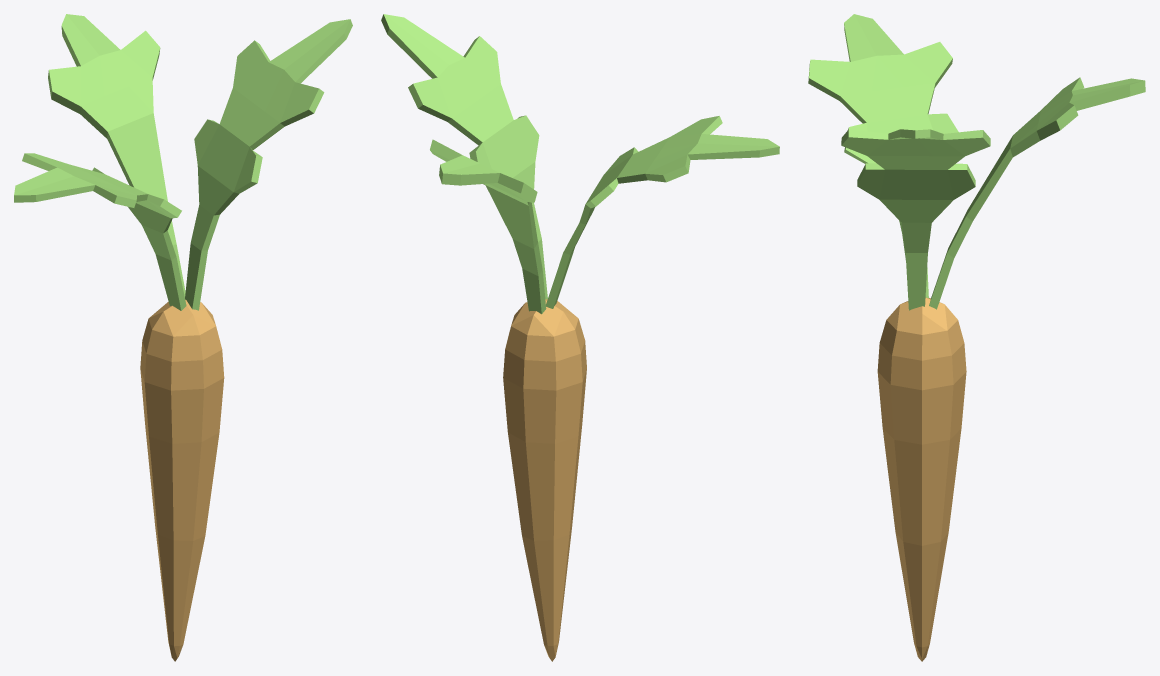
The model's file is carrot_3.glb.
The picture shows the model from 3 angles, left to right: view 1: azimuth 30°, elevation 25°; view 2: azimuth 150°, elevation 25°; view 3: azimuth 270°, elevation 25°; orthographic projection. The views are drawn at different scales.
Parts seen in each view (by area): view 1: Carrot_3; view 2: Carrot_3; view 3: Carrot_3.
Boxes of the visible parts, bbox=[...] form: Carrot_3: bbox=[14, 14, 352, 661]; Carrot_3: bbox=[381, 14, 779, 661]; Carrot_3: bbox=[808, 14, 1145, 661].
Size of the model in its own units: 0.3336 by 0.5215 by 0.2582.
